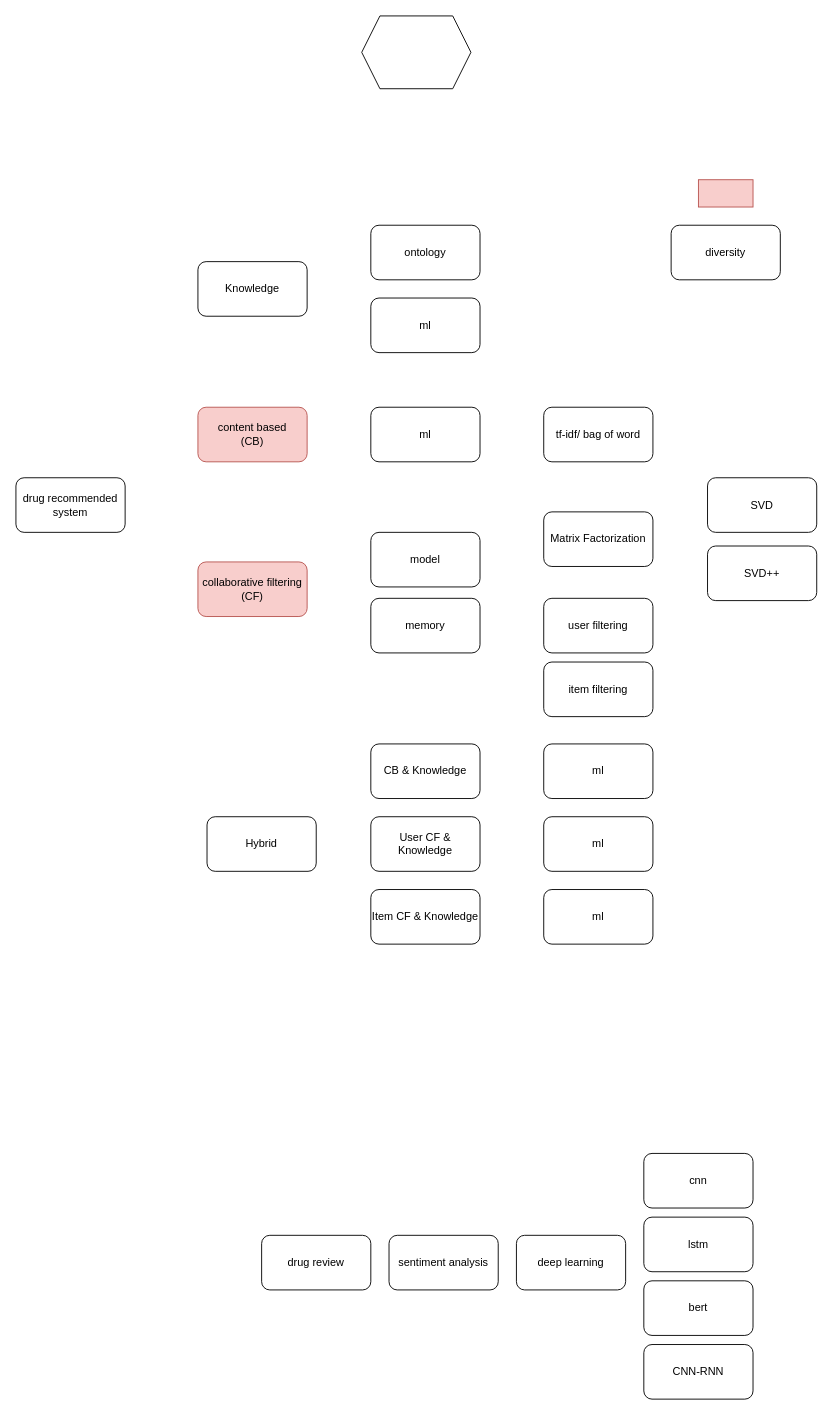
Image size: 833x1415. Some labels were removed from this diagram. Each missing label, with the centre of its shape:
"ontology and rule or data mining and ml" belongs at point (416, 52).
"past" belongs at point (725, 193).
